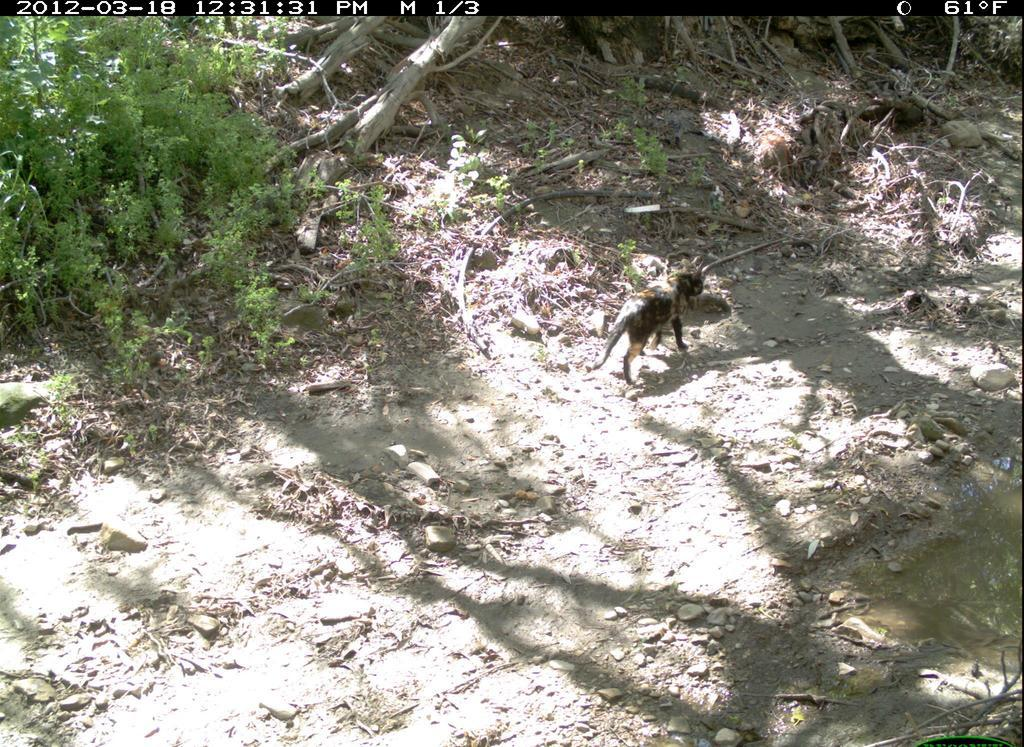cat: (577, 251, 733, 400)
